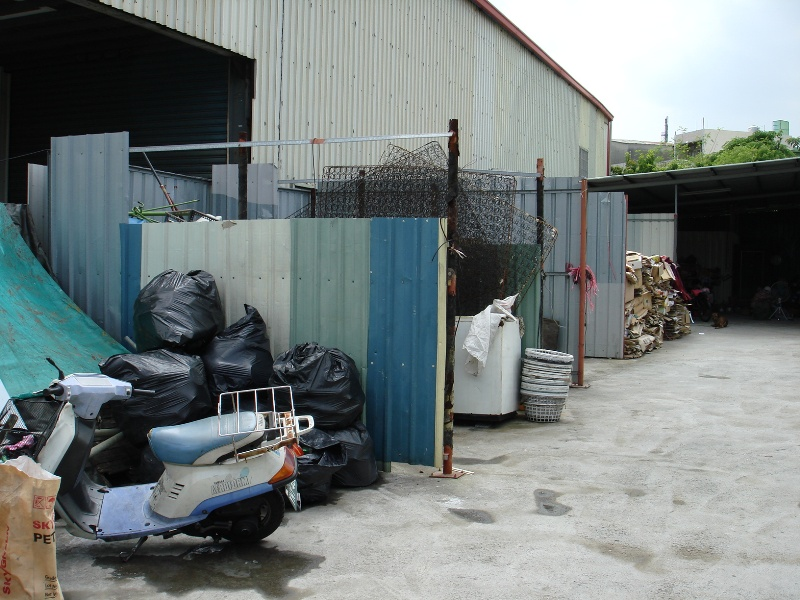plastic_bag: (265, 339, 367, 432), (97, 343, 207, 429), (133, 268, 227, 354), (203, 303, 275, 400), (297, 431, 343, 504)
washing_machine: (451, 314, 524, 429)
